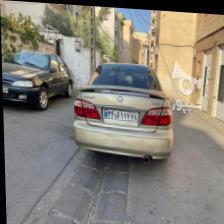plate: (103, 106, 137, 122), (2, 86, 7, 92)
